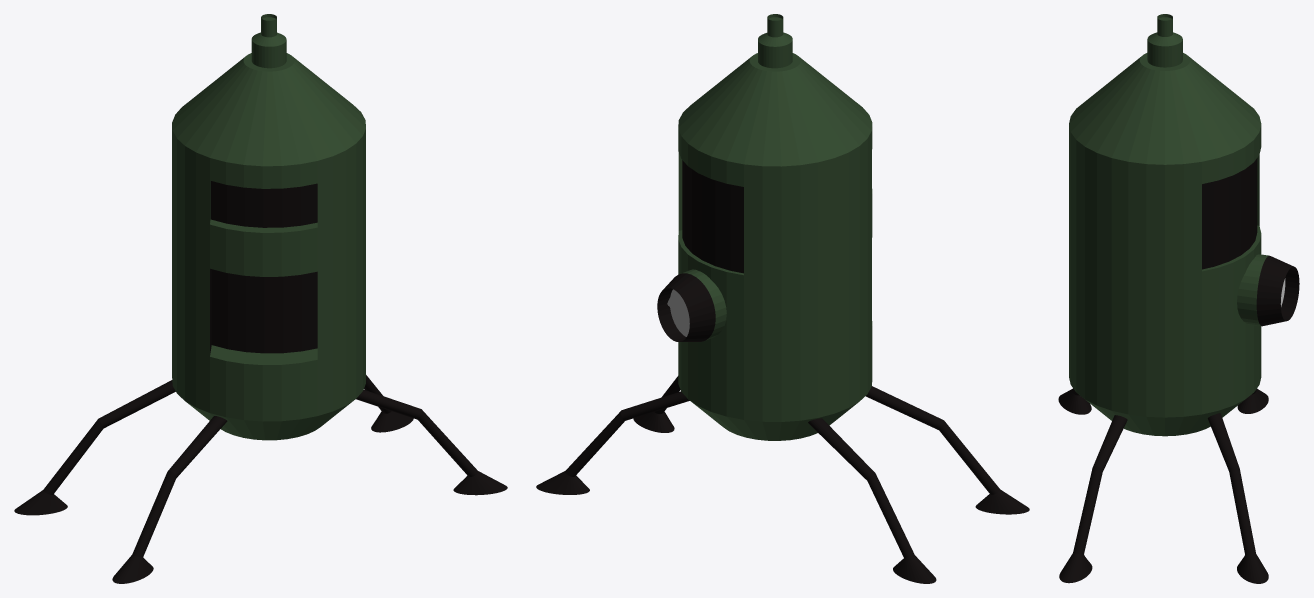
Rendered from Submarine.fbx.
3 renders of one model, left to right at view 1: azimuth 30°, elevation 25°; view 2: azimuth 150°, elevation 25°; view 3: azimuth 270°, elevation 25°, orthographic.
Parts seen in each view (by area): view 1: Body; view 2: Body; view 3: Body.
Part boxes in pixels (x1,y1,x2,y2): Body: (14, 14, 507, 583); Body: (536, 14, 1029, 583); Body: (1058, 14, 1299, 583).
Bounding box in the file's own units: 472 × 544 × 250.
